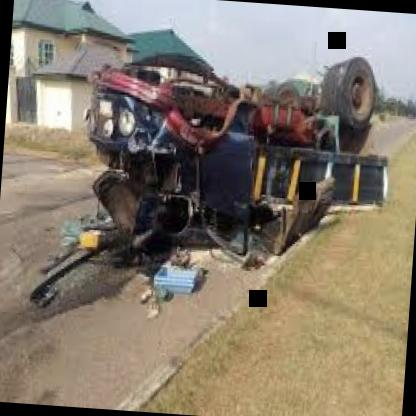accident: (15, 10, 416, 384)
